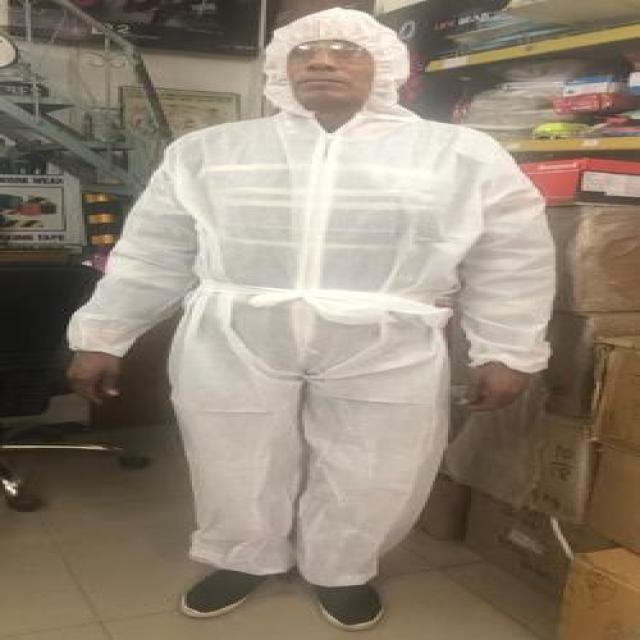Coverall: (56, 5, 566, 630)
